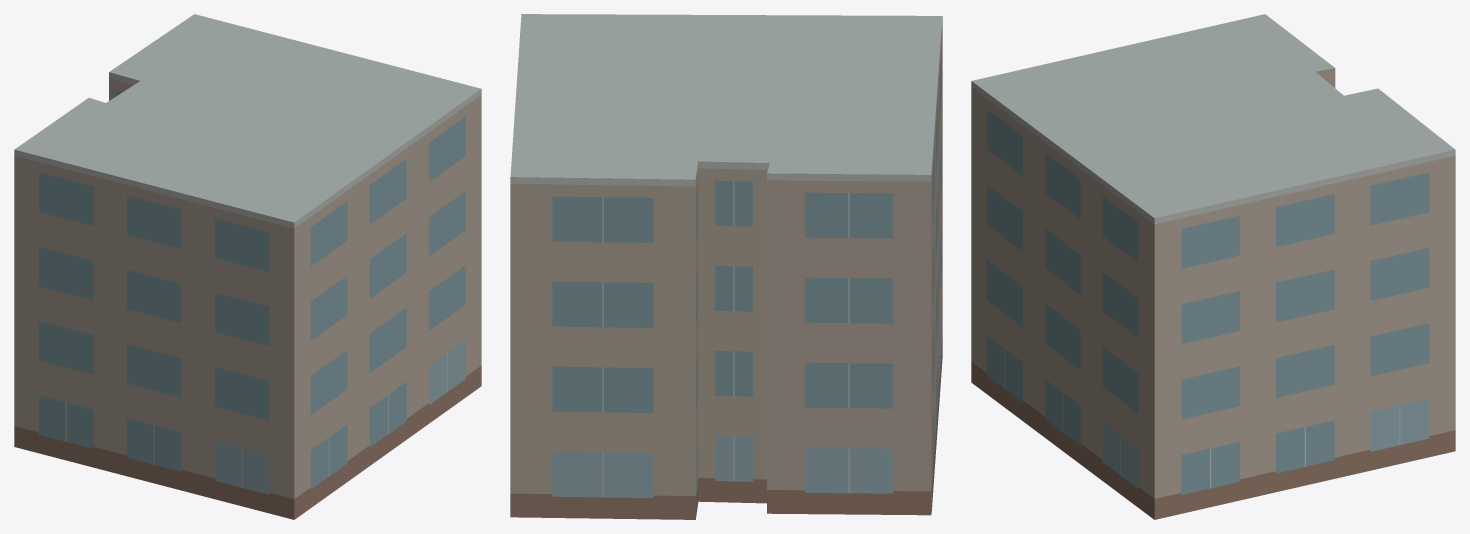
File: survey-upis-32910433.glb
The picture shows the model from 3 angles, left to right: view 1: azimuth 30°, elevation 25°; view 2: azimuth 150°, elevation 25°; view 3: azimuth 270°, elevation 25°; orthographic projection. The views are drawn at different scales.
Parts seen in each view (by area): view 1: survey-upis-32910433.tmp; view 2: survey-upis-32910433.tmp; view 3: survey-upis-32910433.tmp.
Part boxes in pixels (left/top/right/bottom): survey-upis-32910433.tmp: left=14, top=14, right=481, bottom=519; survey-upis-32910433.tmp: left=510, top=14, right=942, bottom=519; survey-upis-32910433.tmp: left=971, top=14, right=1455, bottom=519.
Bounding box in the file's own units: 17.55 × 12.07 × 17.57.
